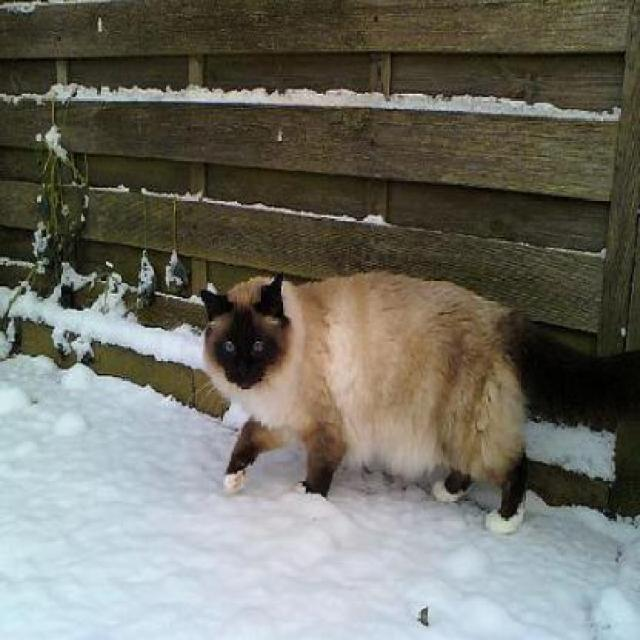cat: (198, 268, 530, 535)
